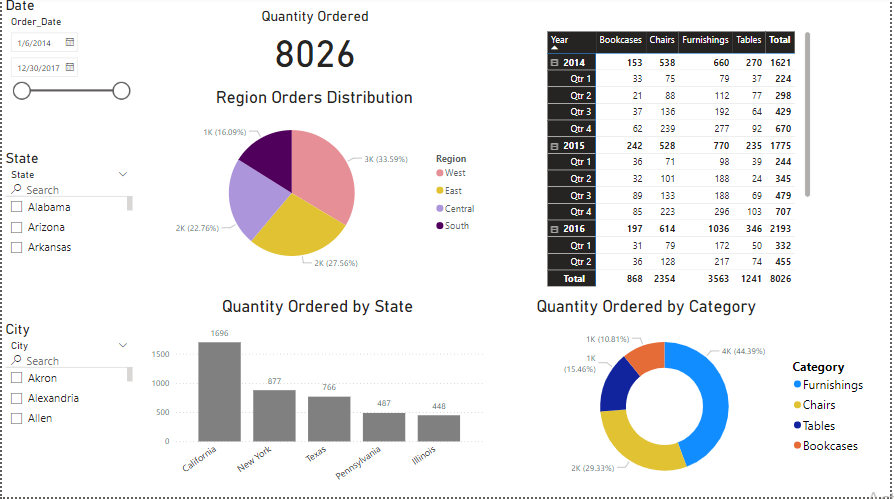

The dashboard page shown, as its layout file describes it:
{"tool":"powerbi","page":{"name":"Quantity Visuals","canvas":[1280,720],"ordinal":0},"visuals":[{"type":"pieChart","title":"Region Orders Distribution","fields":{"Category":["sales_forecasting_cleaned.Region"],"Y":["Sum(sales_forecasting_cleaned.Quantity)"]},"box":[204.9,131,490.5,275.5],"z":0},{"type":"columnChart","title":"Quantity Ordered by State","fields":{"Category":["sales_forecasting_cleaned.State"],"Y":["Sum(sales_forecasting_cleaned.Quantity)"]},"box":[210.2,432,488.2,288],"z":1000},{"type":"card","title":"Quantity Ordered","fields":{"Values":["Sum(sales_forecasting_cleaned.Quantity)"]},"box":[339.8,15.8,221.8,95],"z":2000},{"type":"slicer","title":"State","fields":{"Values":["sales_forecasting_cleaned.State"]},"box":[0,220.3,193,162.7],"z":3000},{"type":"slicer","title":"City","fields":{"Values":["sales_forecasting_cleaned.City"]},"box":[0,466.6,193,158.4],"z":4000},{"type":"slicer","title":"Date","fields":{"Values":["sales_forecasting_cleaned.Order_Date"]},"box":[0,0,193,185.8],"z":5000},{"type":"donutChart","title":"Quantity Ordered by Category","fields":{"Category":["sales_forecasting_cleaned.Category"],"Y":["Sum(sales_forecasting_cleaned.Quantity)"]},"box":[764.6,432,489.6,288],"z":6000},{"type":"pivotTable","fields":{"Rows":["sales_forecasting_cleaned.Order_Date.Variation.Date Hierarchy.Year","sales_forecasting_cleaned.Order_Date.Variation.Date Hierarchy.Quarter"],"Columns":["sales_forecasting_cleaned.Category"],"Values":["Sum(sales_forecasting_cleaned.Quantity)"]},"box":[780.5,44.6,388.8,377.3],"z":7000}]}

Visuals, with their boxes in screenshot pixels (x1, y1, x2, y2), scaled from the page's 1280x720 canvas onto the 894x499 screenshot:
"Region Orders Distribution" pieChart: l=143, t=91, r=486, b=282
"Quantity Ordered by State" columnChart: l=147, t=299, r=488, b=498
"Quantity Ordered" card: l=237, t=11, r=392, b=77
"State" slicer: l=0, t=153, r=135, b=265
"City" slicer: l=0, t=323, r=135, b=433
"Date" slicer: l=0, t=0, r=135, b=129
"Quantity Ordered by Category" donutChart: l=534, t=299, r=876, b=498
pivotTable - sales_forecasting_cleaned.Order_Date.Variation.Date Hierarchy.Year x sales_forecasting_cleaned.Order_Date.Variation.Date Hierarchy.Quarter: l=545, t=31, r=817, b=292
